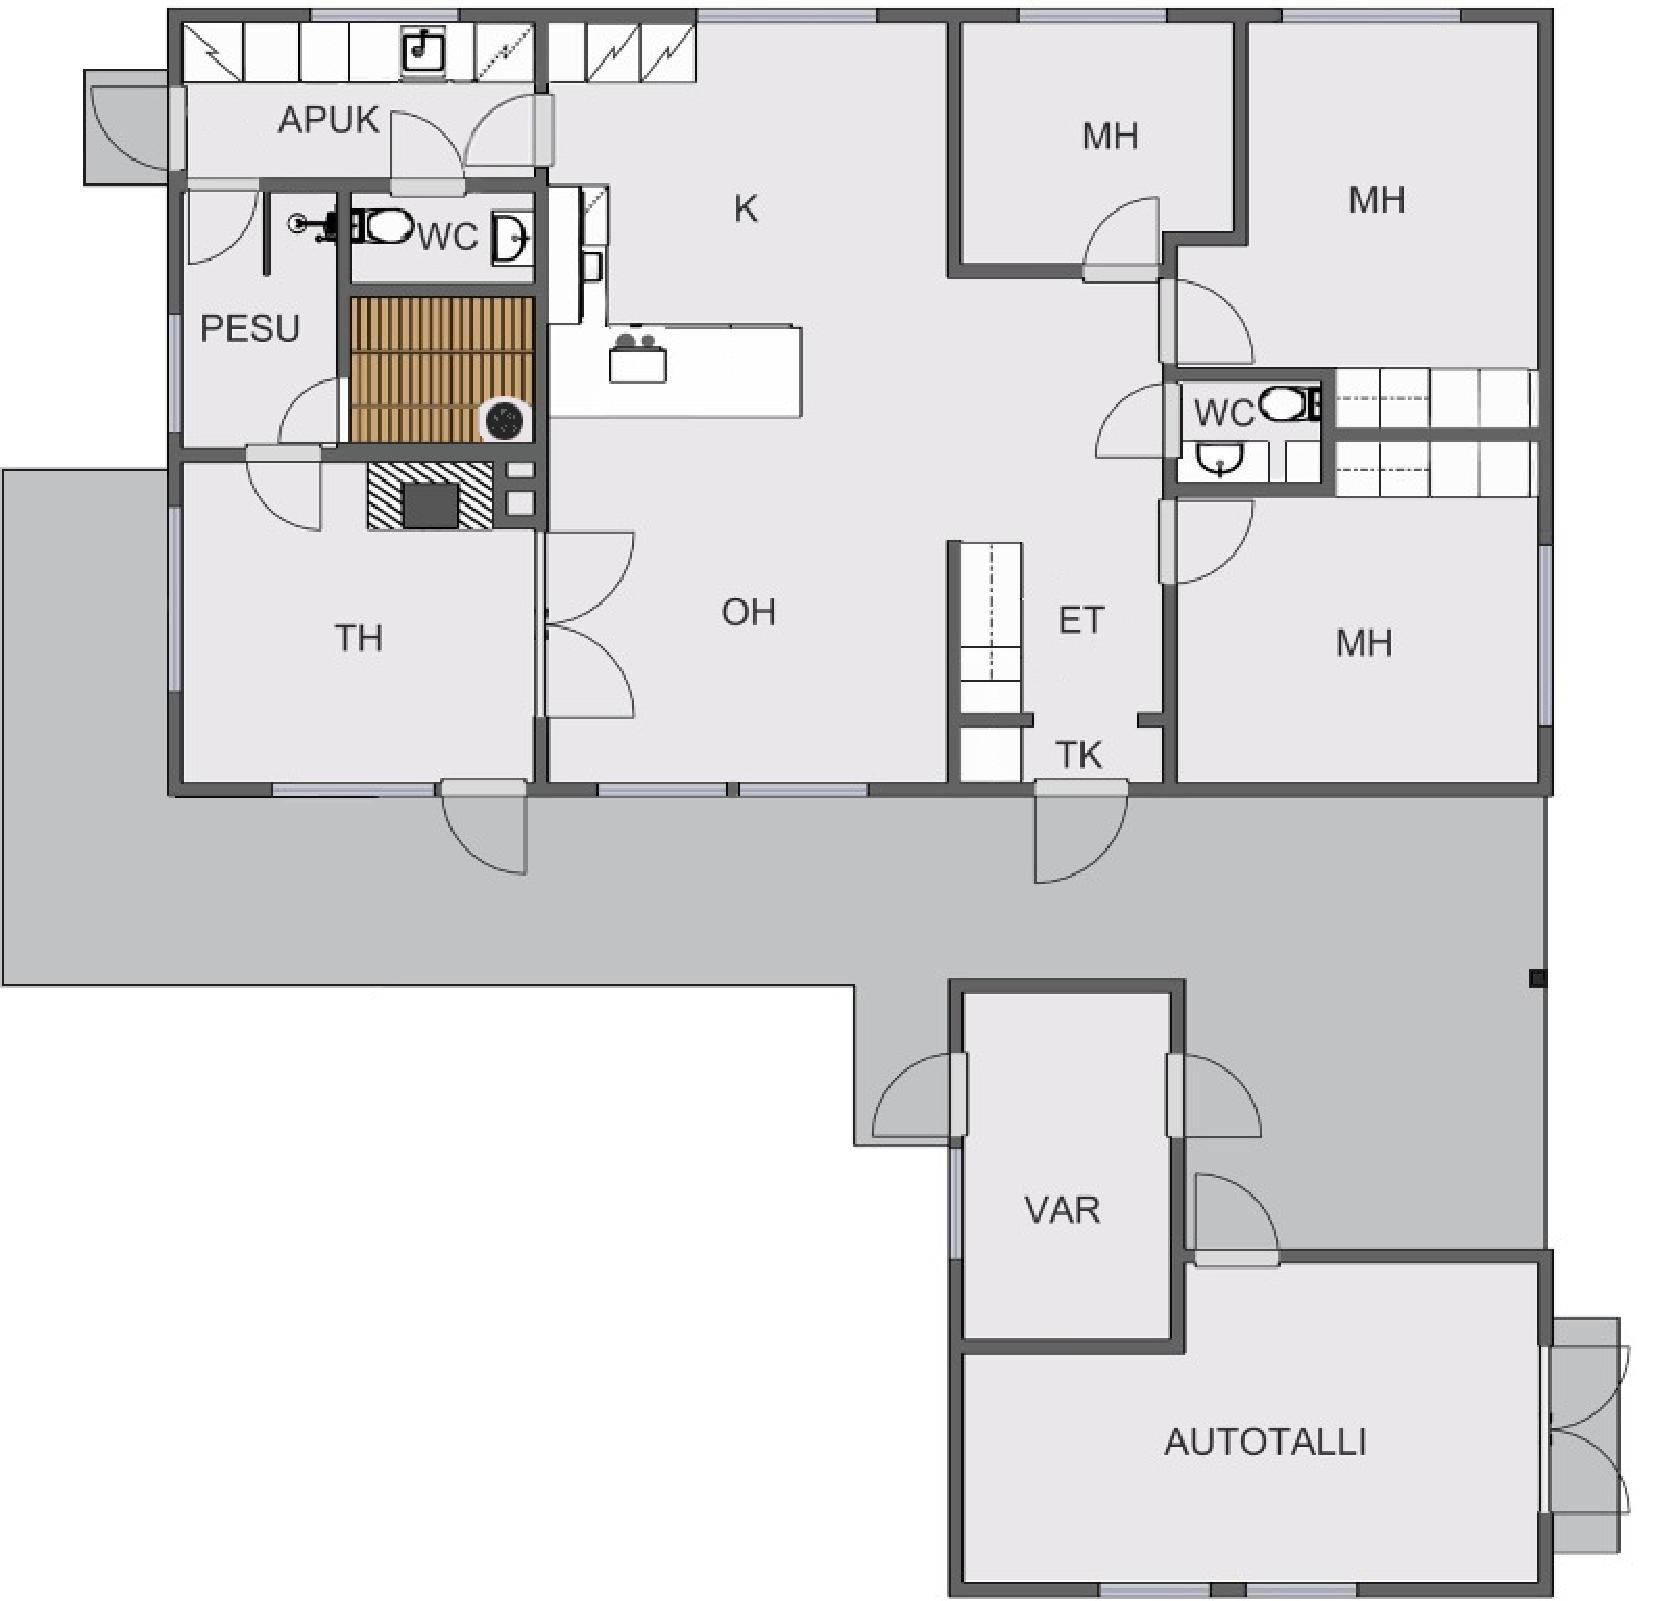door: (528, 529, 648, 726), (1533, 1347, 1635, 1524), (1158, 1051, 1292, 1152), (1034, 772, 1136, 888), (862, 1047, 974, 1150), (455, 84, 560, 186), (1192, 1169, 1286, 1277), (441, 778, 535, 878), (1093, 375, 1186, 475), (1155, 273, 1255, 365), (89, 84, 191, 170), (1161, 500, 1260, 587), (384, 111, 476, 203), (238, 449, 333, 538), (182, 177, 260, 273), (1090, 192, 1155, 287), (274, 383, 355, 448)
window: (1527, 543, 1561, 724), (693, 4, 875, 30), (733, 775, 861, 807), (308, 4, 454, 33), (1013, 4, 1161, 28), (265, 781, 430, 801), (1282, 9, 1452, 27), (1246, 1574, 1354, 1601), (596, 781, 720, 803), (1103, 1574, 1208, 1600), (943, 1144, 966, 1248), (163, 313, 182, 426), (169, 509, 177, 692)
zone: (7, 466, 1550, 1248), (546, 21, 1158, 778), (954, 1254, 1538, 1585), (1164, 16, 1535, 364), (1181, 449, 1535, 786), (180, 455, 532, 775), (957, 992, 1173, 1333), (964, 16, 1238, 265), (188, 22, 532, 182), (180, 186, 340, 446), (347, 293, 529, 439), (342, 183, 529, 275), (1181, 373, 1323, 483)
